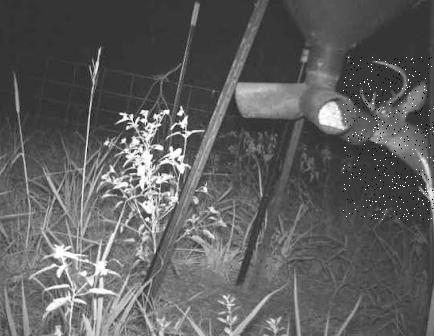Deer: (343, 57, 434, 220)
